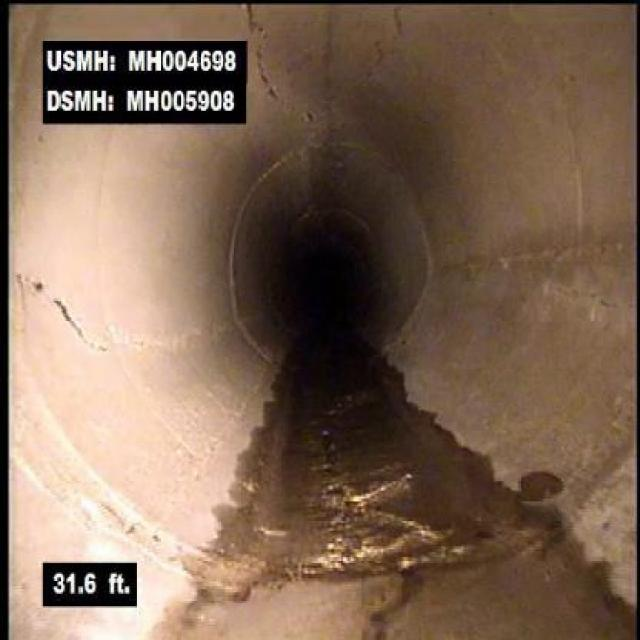Crack: (29, 260, 160, 358), (514, 250, 629, 318), (248, 8, 314, 109), (354, 3, 415, 82)
